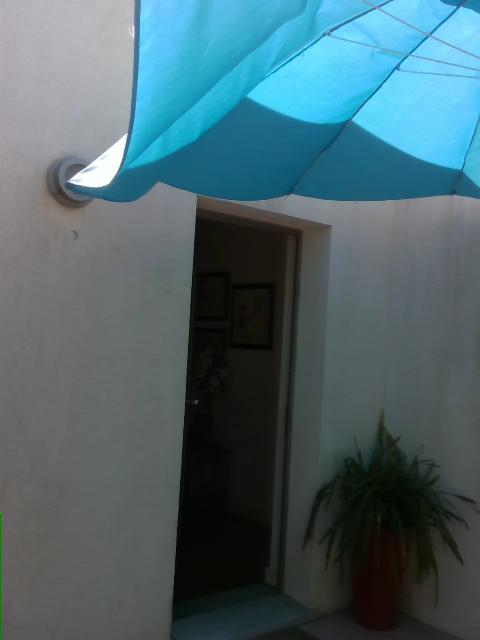semi_door: (173, 192, 301, 627)
